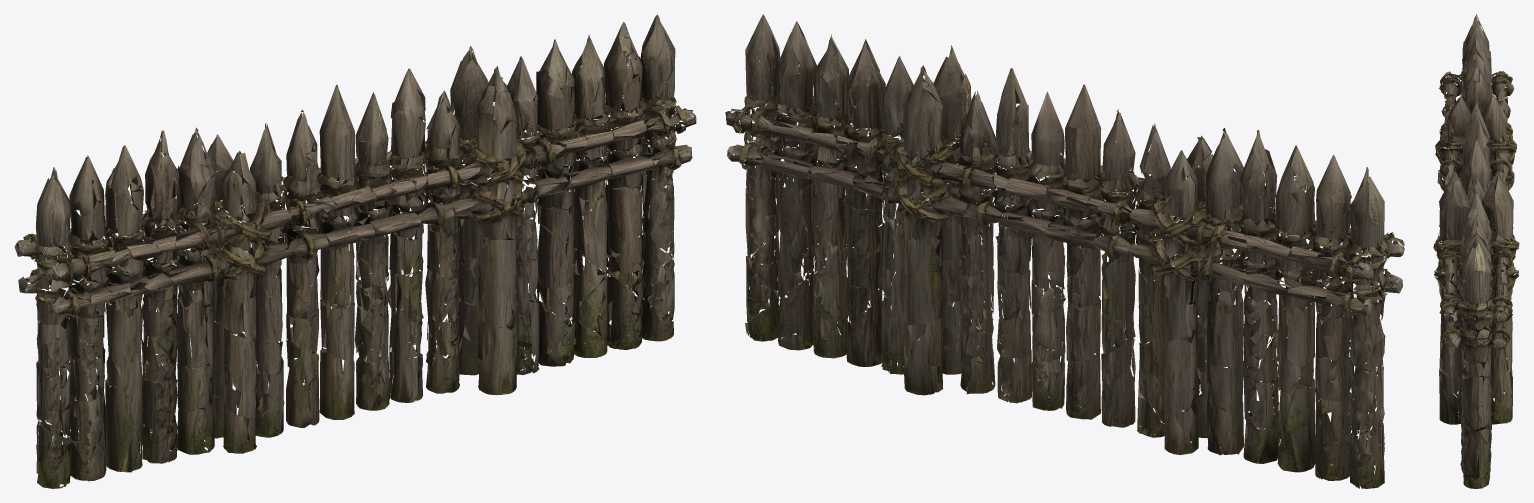
The model's file is o17_sivri_kazik_cit.glb.
3 views of the same model, side by side, from view 1: azimuth 30°, elevation 25°; view 2: azimuth 150°, elevation 25°; view 3: azimuth 270°, elevation 25° (orthographic). The views are drawn at different scales.
Visible parts, largest first — view 1: Mesh_0; view 2: Mesh_0; view 3: Mesh_0.
Part boxes in pixels (left/top/right/bottom): Mesh_0: left=14, top=14, right=696, bottom=488; Mesh_0: left=725, top=14, right=1404, bottom=488; Mesh_0: left=1433, top=14, right=1519, bottom=488.
Size of the model in its own units: 1.9 by 0.9276 by 0.2852.
1 material, 1 textured.
